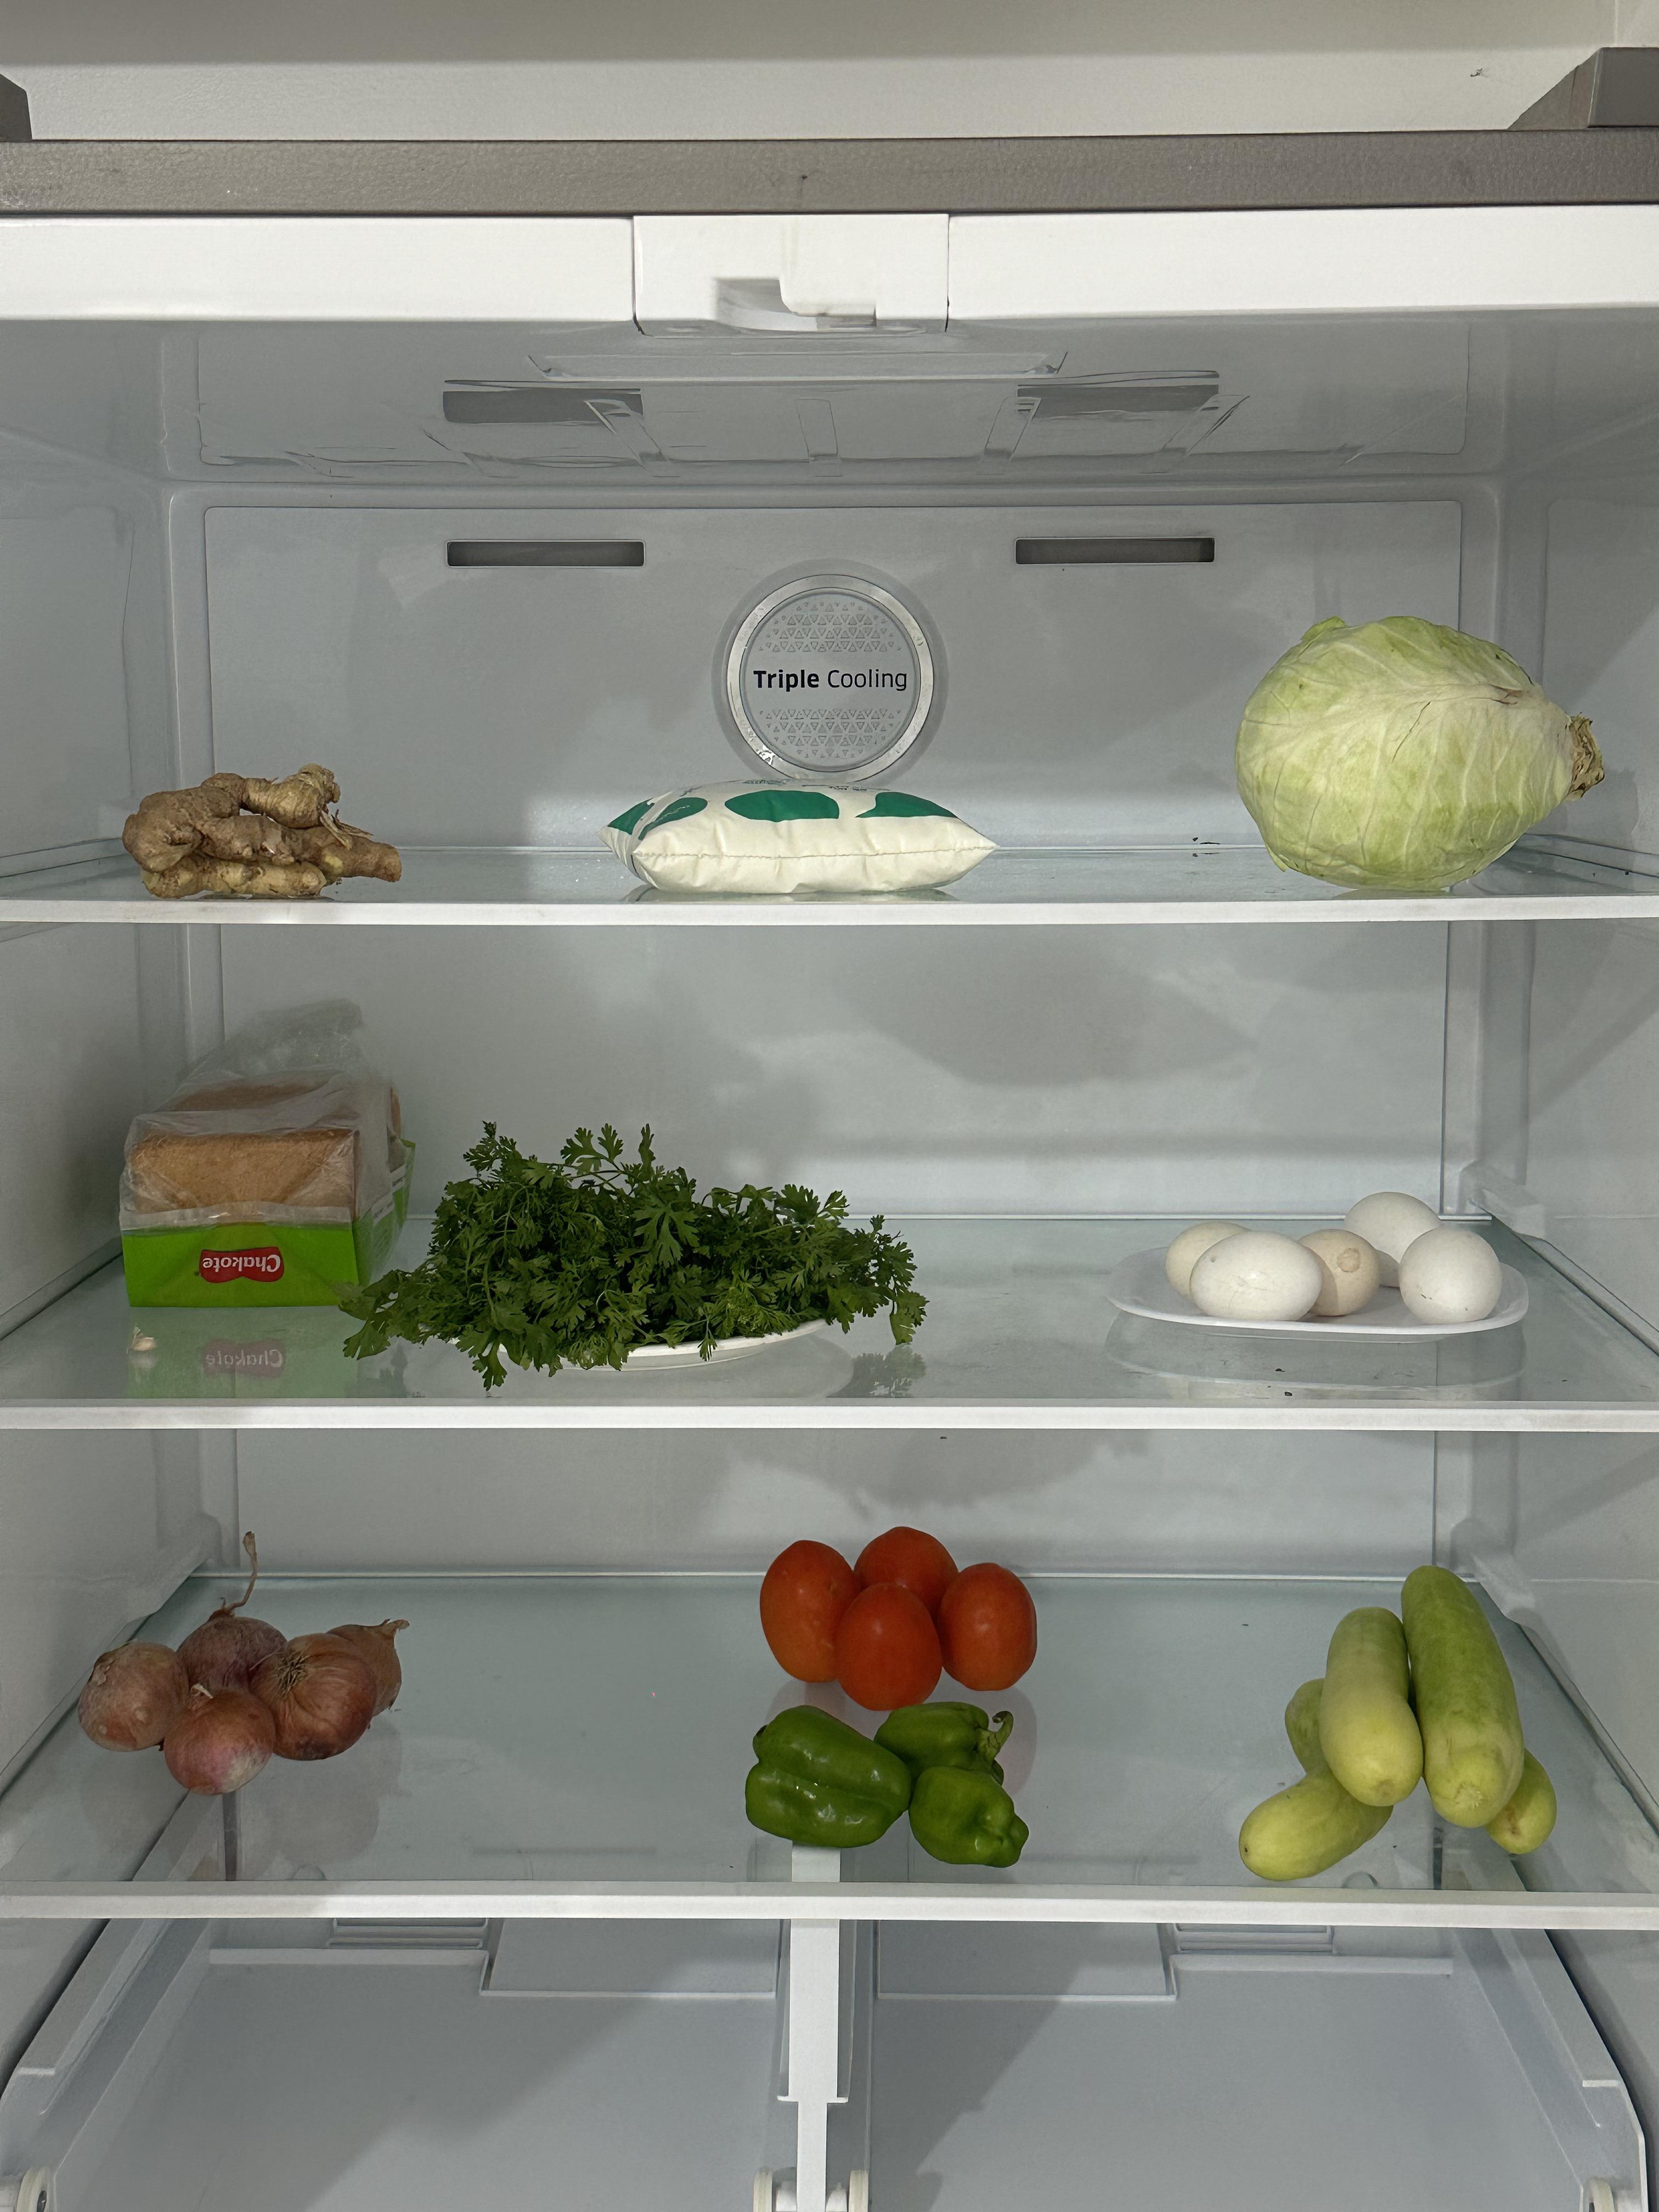bread: (115, 1049, 413, 1292)
cabbage: (1230, 610, 1603, 876)
capsicum: (1241, 1559, 1558, 1893), (748, 1703, 1037, 1874)
coriander: (432, 1144, 918, 1372)
egg: (1162, 1190, 1509, 1332)
ginger: (115, 768, 418, 907)
milk: (592, 772, 1000, 902)
onion: (84, 1597, 401, 1794)
tomato: (758, 1514, 1040, 1703)
